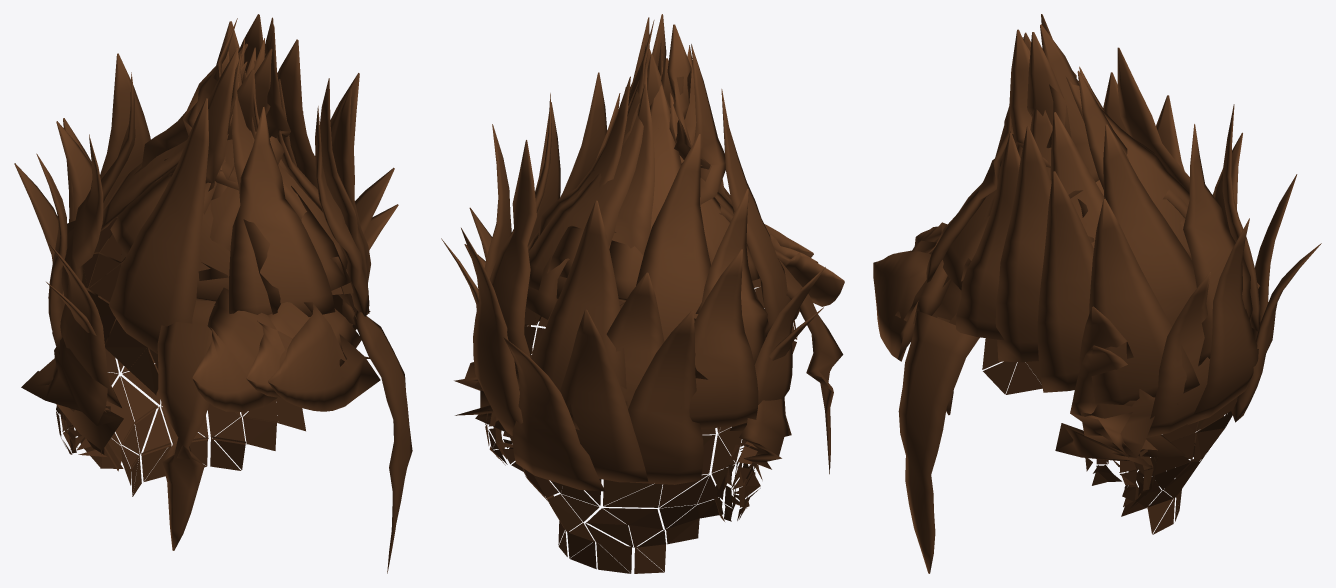
The model's file is kopf.haar.wuschel_hoch.glb.
3 views of the same model, side by side, from view 1: azimuth 30°, elevation 25°; view 2: azimuth 150°, elevation 25°; view 3: azimuth 270°, elevation 25° (orthographic). The views are drawn at different scales.
Visible parts, largest first — view 1: haar; view 2: haar; view 3: haar.
Part boxes in pixels (x1=…): haar: x1=14, y1=14, x2=412, y2=573; haar: x1=441, y1=14, x2=844, y2=573; haar: x1=873, y1=14, x2=1321, y2=573.
Bounding box in the file's own units: 0.2308 × 0.327 × 0.2575.
